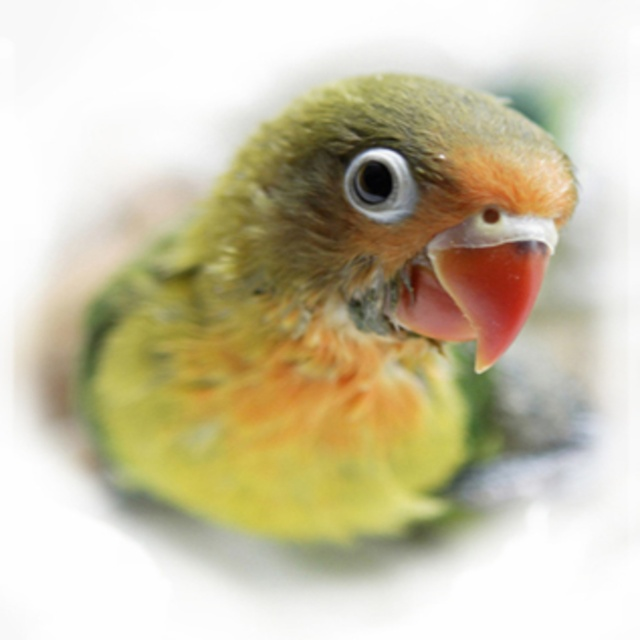Parrot: (67, 65, 577, 552)
